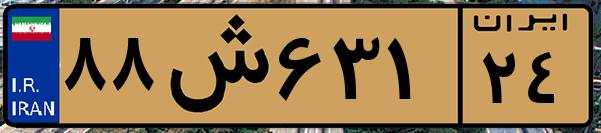1: (385, 28, 445, 110)
2: (475, 38, 525, 113)
3: (330, 28, 385, 110)
4: (525, 38, 570, 115)
6: (270, 28, 330, 110)
8: (57, 26, 110, 100), (110, 28, 158, 98)
ش: (158, 12, 270, 120)
